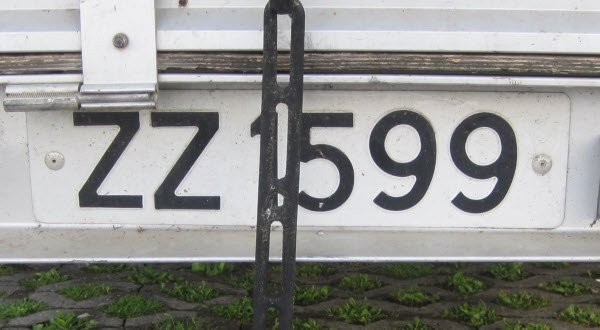license_plate: (25, 92, 569, 232)
